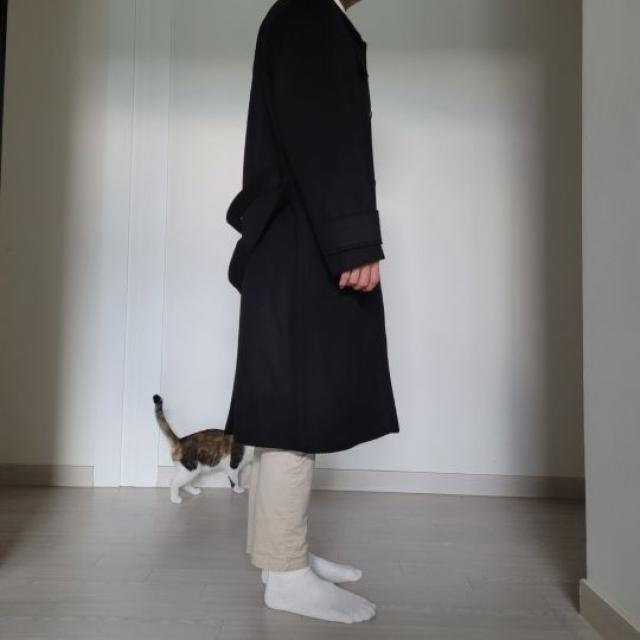coat: (221, 0, 400, 452)
cottonpants: (248, 445, 311, 573)
